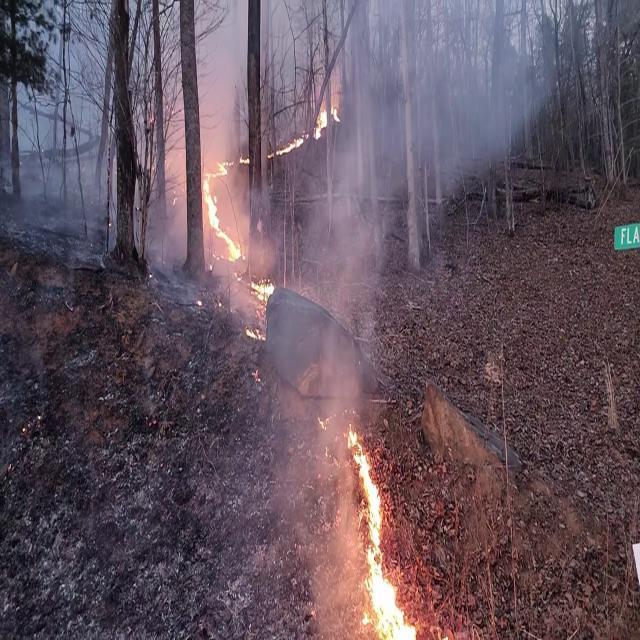Fire: (342, 421, 420, 638), (200, 156, 242, 266), (302, 98, 339, 144), (248, 270, 278, 306)
Smoke: (286, 48, 421, 413), (306, 0, 542, 185)
